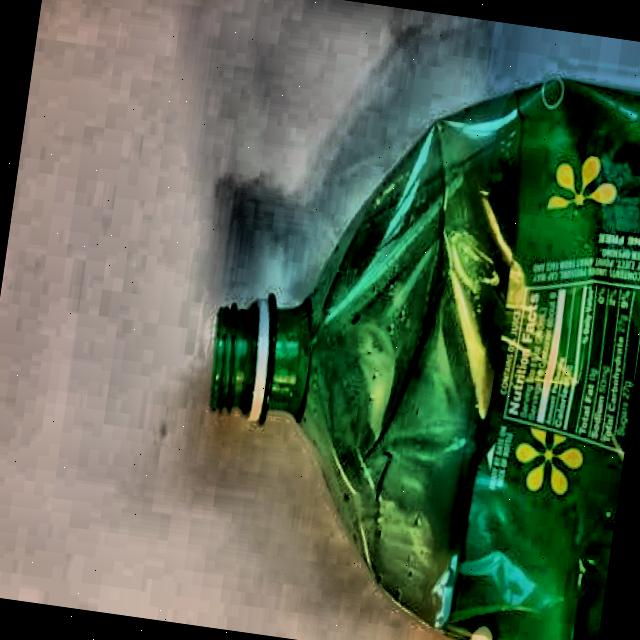plastic: (174, 30, 640, 640)
